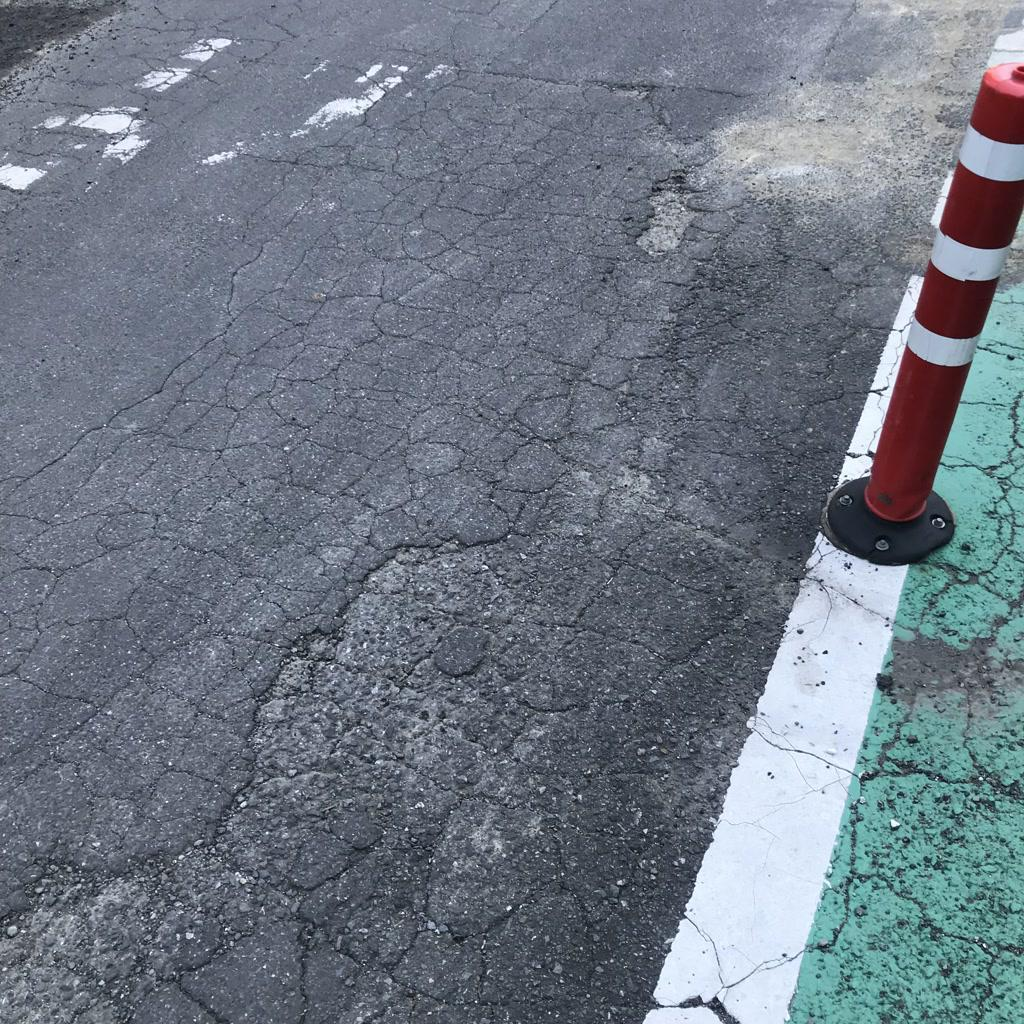D20: (0, 82, 887, 1023)
D40: (606, 154, 718, 276)
